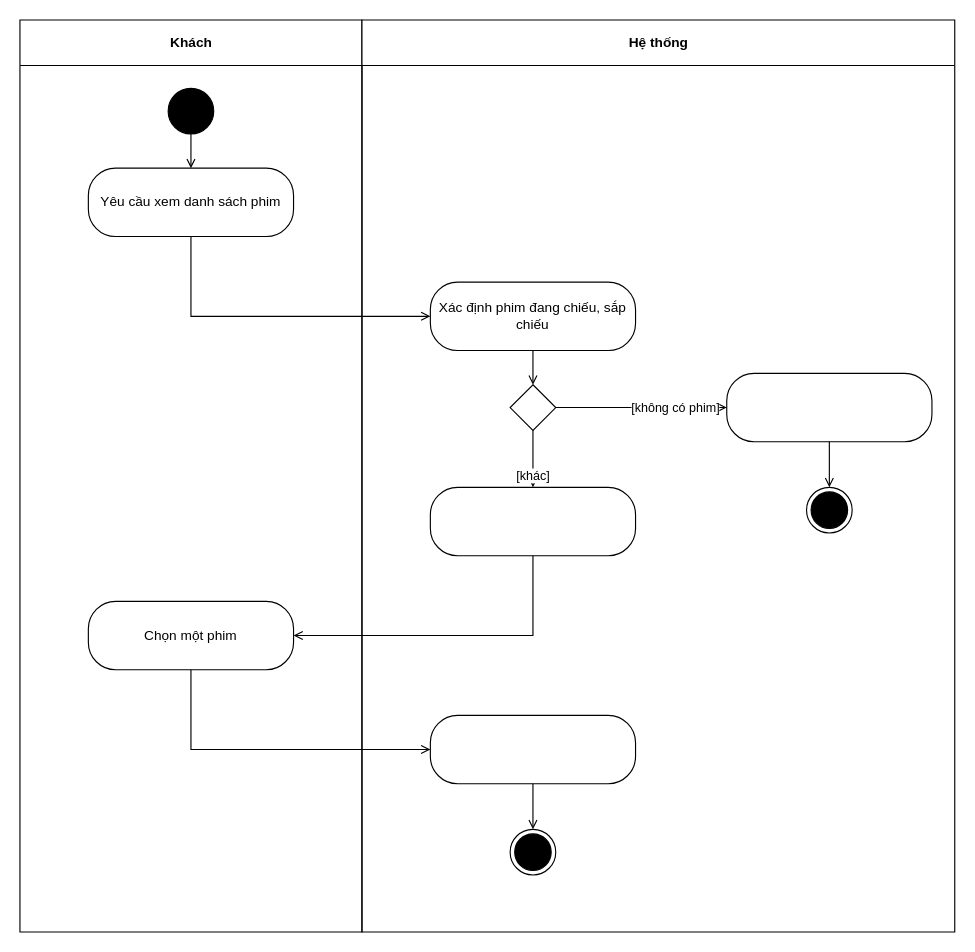
The diagram is 975 pixels wide and 952 high, and some of its shapes have lost their labels. Each missing label, with the centre of its shape:
Hiển thị danh sách phim: pixel 532 521
Hiển thị thông tin phim: pixel 532 749
Thông báo không có phim: pixel 829 407
